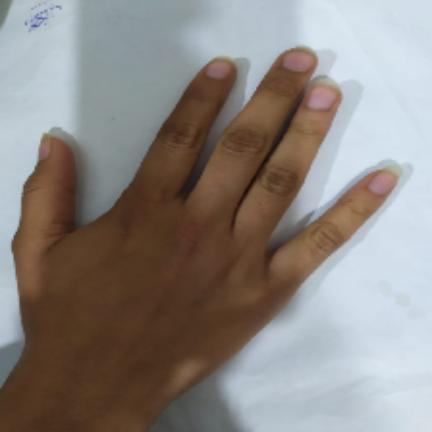Nail: (307, 77, 339, 111), (367, 165, 403, 195), (283, 45, 317, 73), (206, 56, 231, 79), (38, 133, 51, 162)
